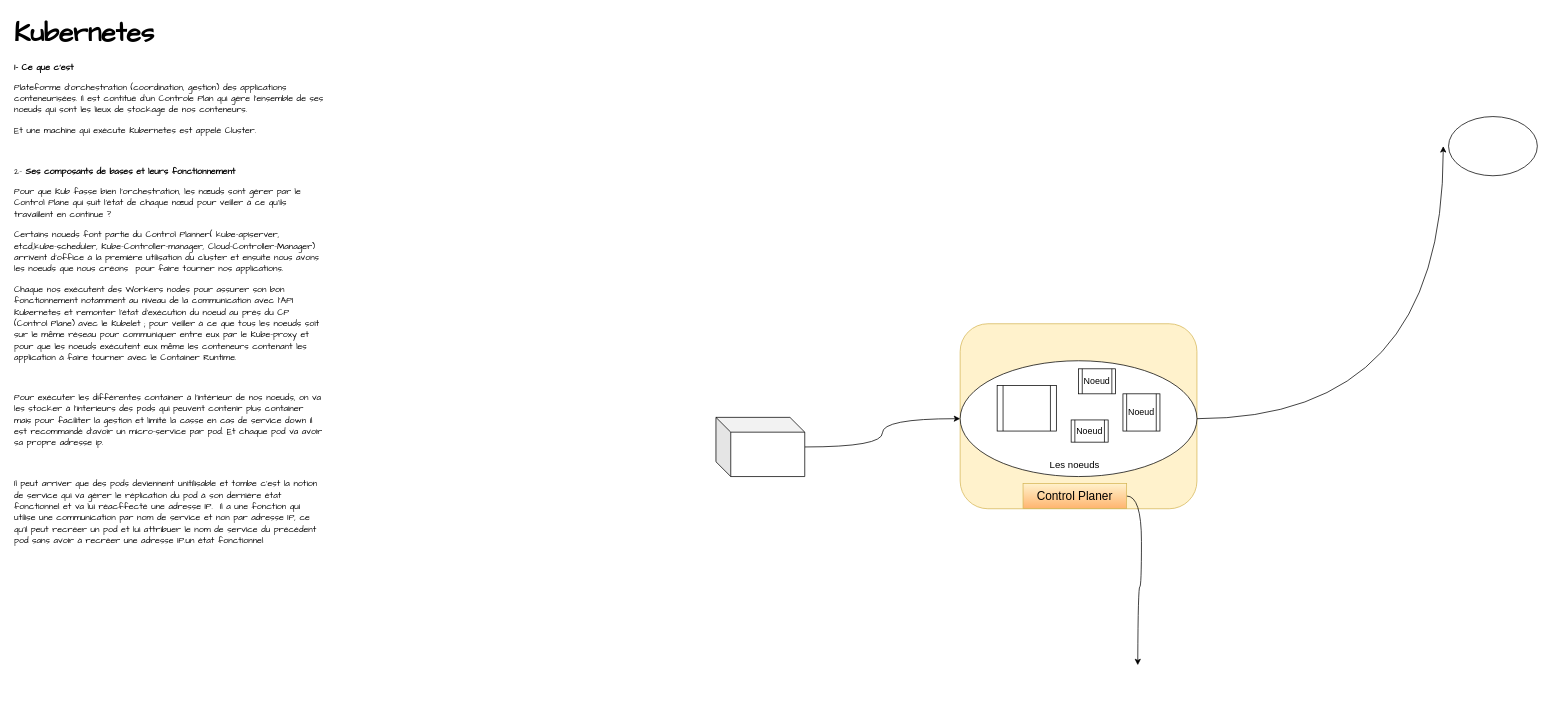
This 1550x723 diagram has some shape labels left out. Here are the shapes that lost their labels. From the top down, the box of each, then its label:
(996, 385, 1056, 431): Noeuds
(715, 417, 805, 477): Clusters.
